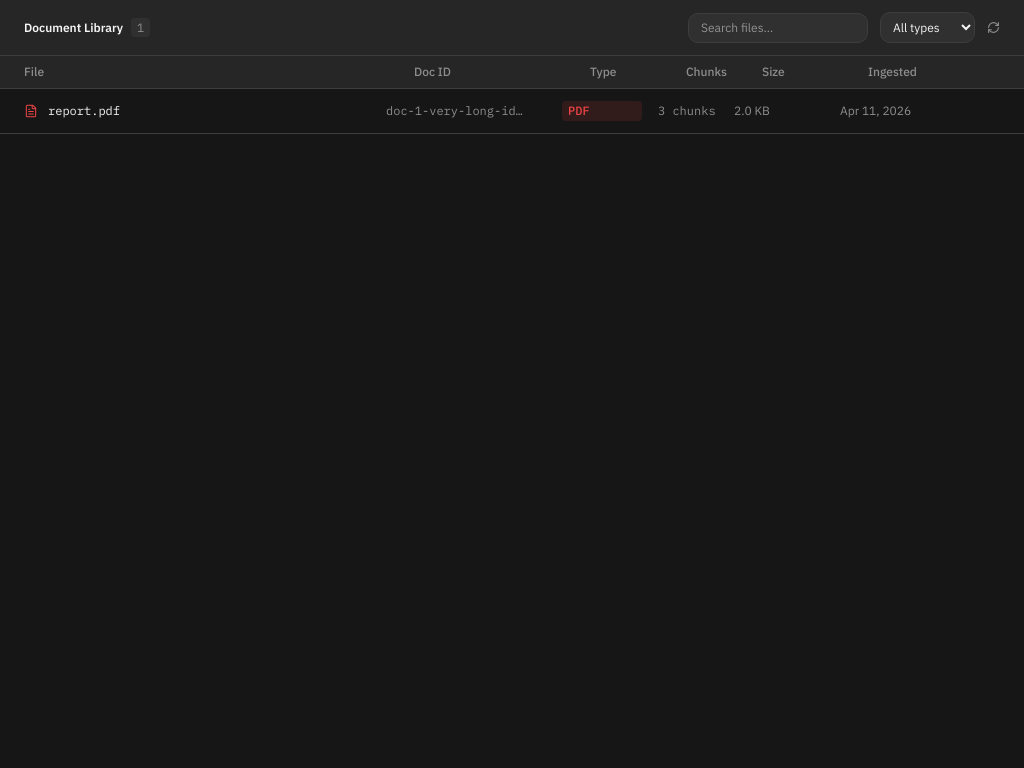
Test case: DocumentLibraryPanel › hides hover actions on mouse leave and closes the delete dialog when cancelled
The image size is (1024, 768).
Hover over the text "report.pdf" at (512, 112), box [0,89,1023,134]
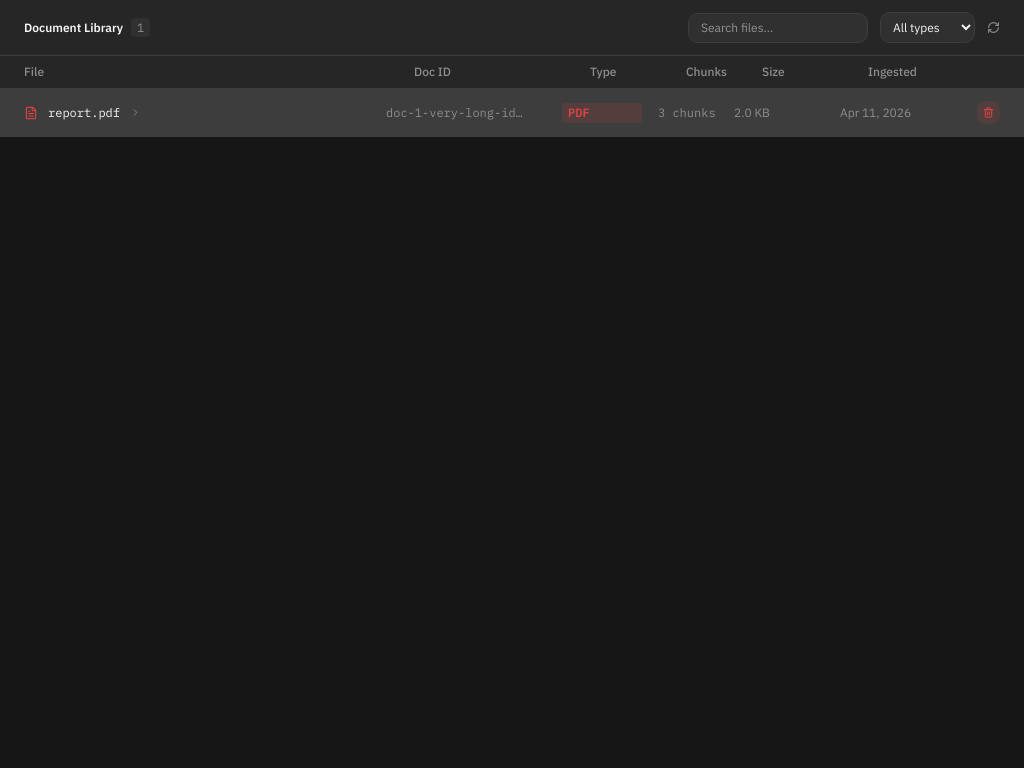
Check: the button titled "Delete document" is shown, box [977,101,1000,124]
Move the pointer off the text "report.pdf", box [0,89,1023,137]
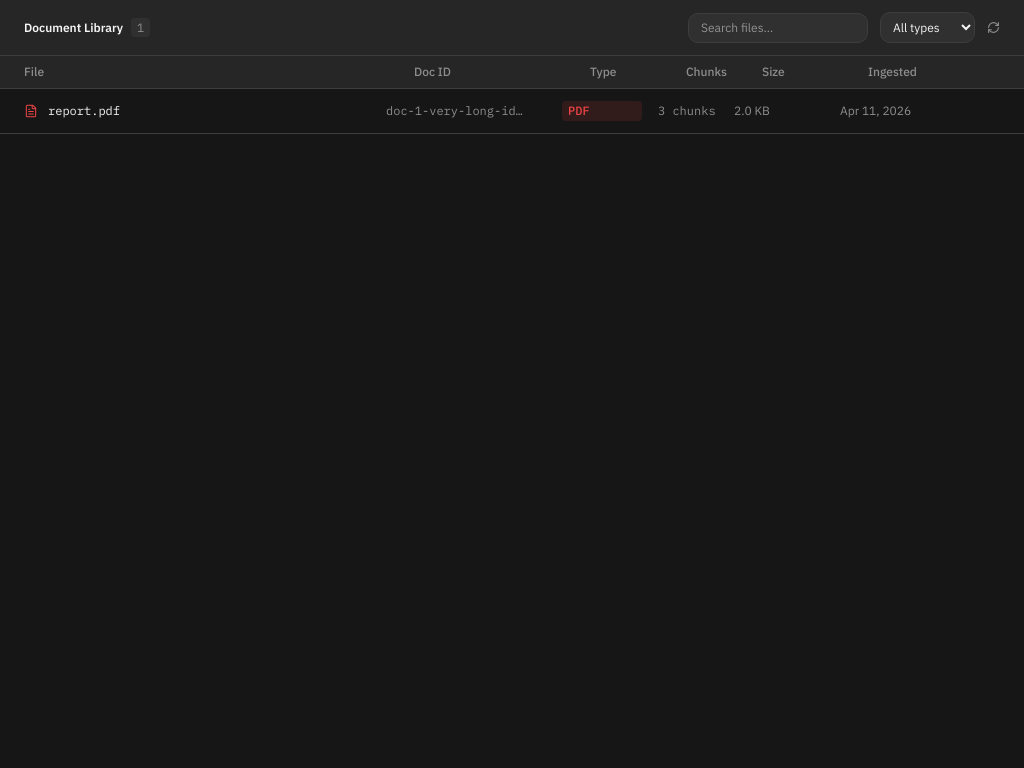
Hover over the text "report.pdf" at (512, 112), box [0,89,1023,134]
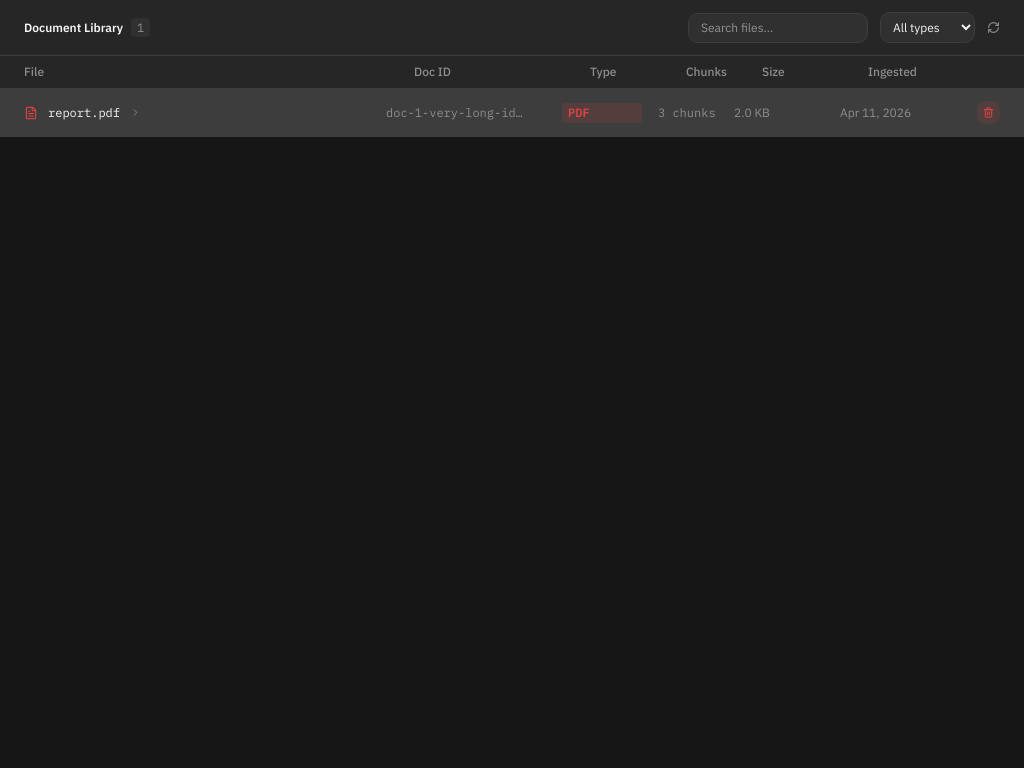
Click the button titled "Delete document" at (988, 112), box [977,101,1000,124]
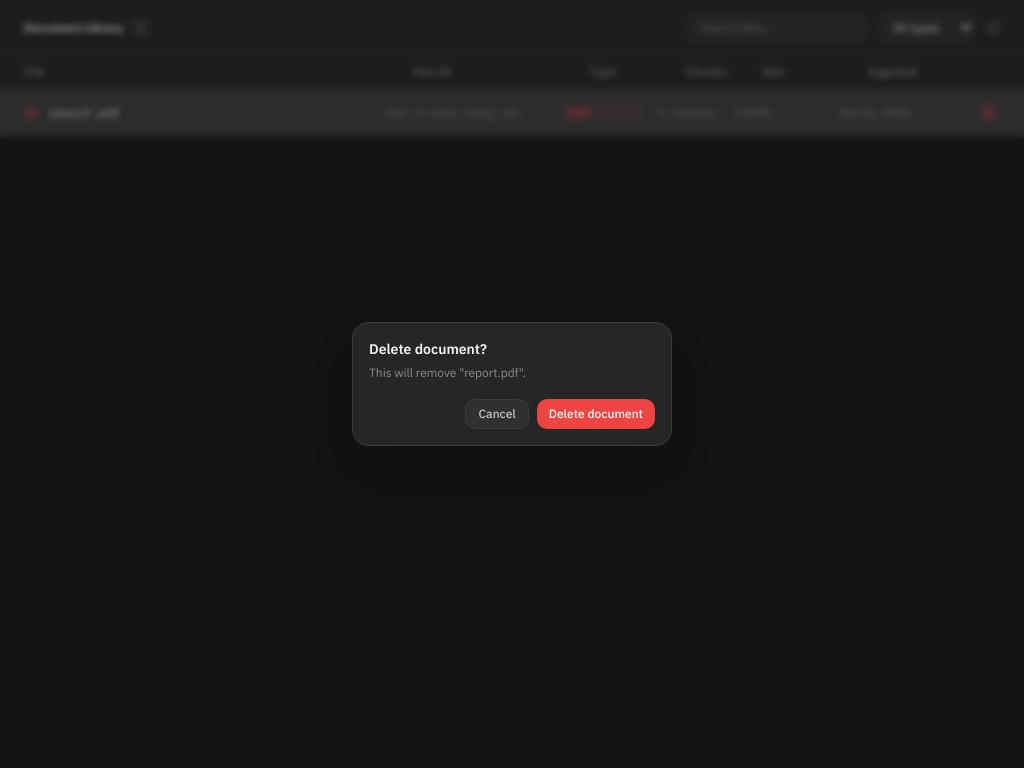
Check: the dialog is shown, box [352,322,672,446]
Click the button "Cancel" at (497, 414), box [466,399,529,429]
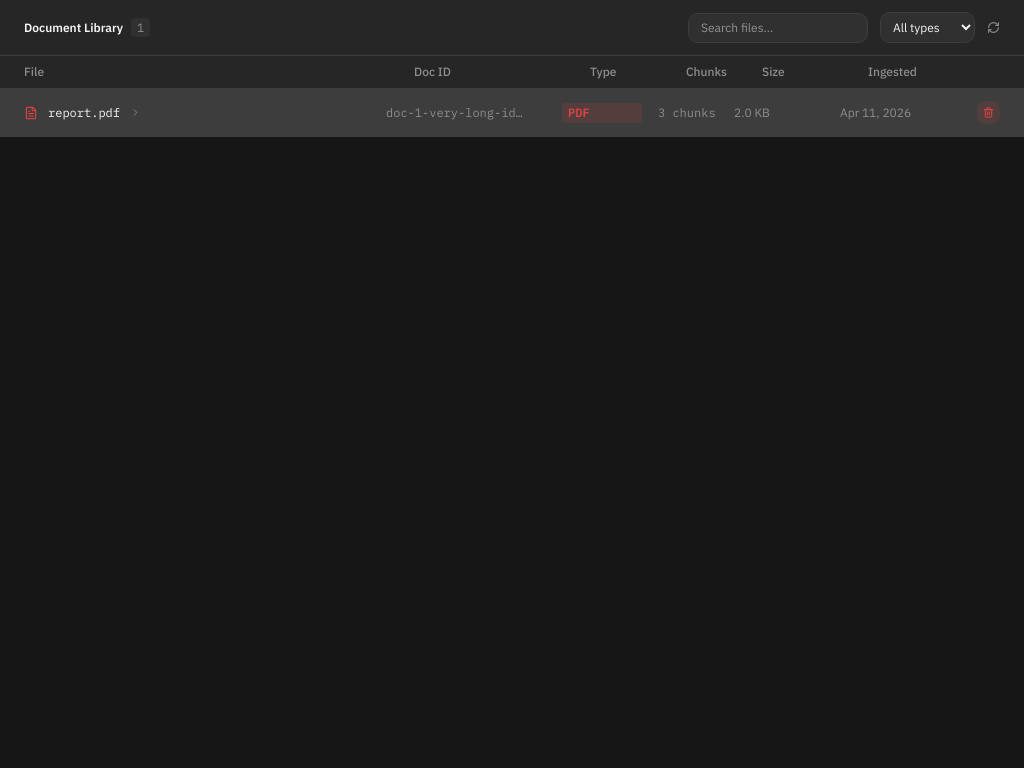
Check: the dialog is gone
